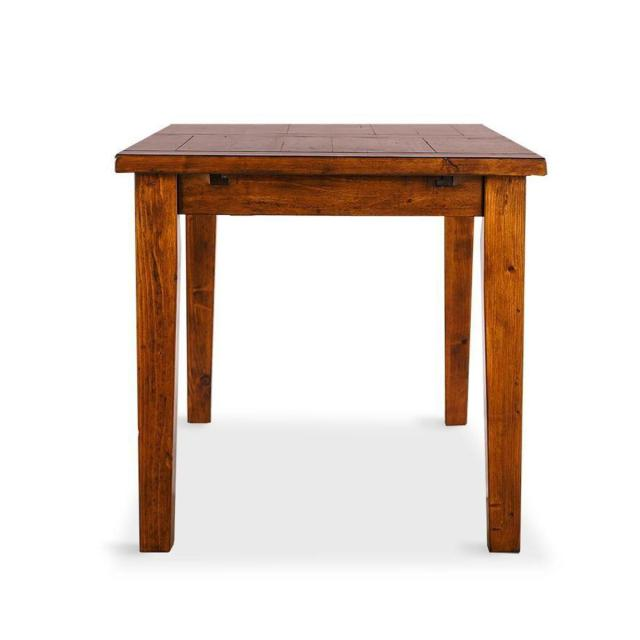table: (103, 102, 584, 603)
